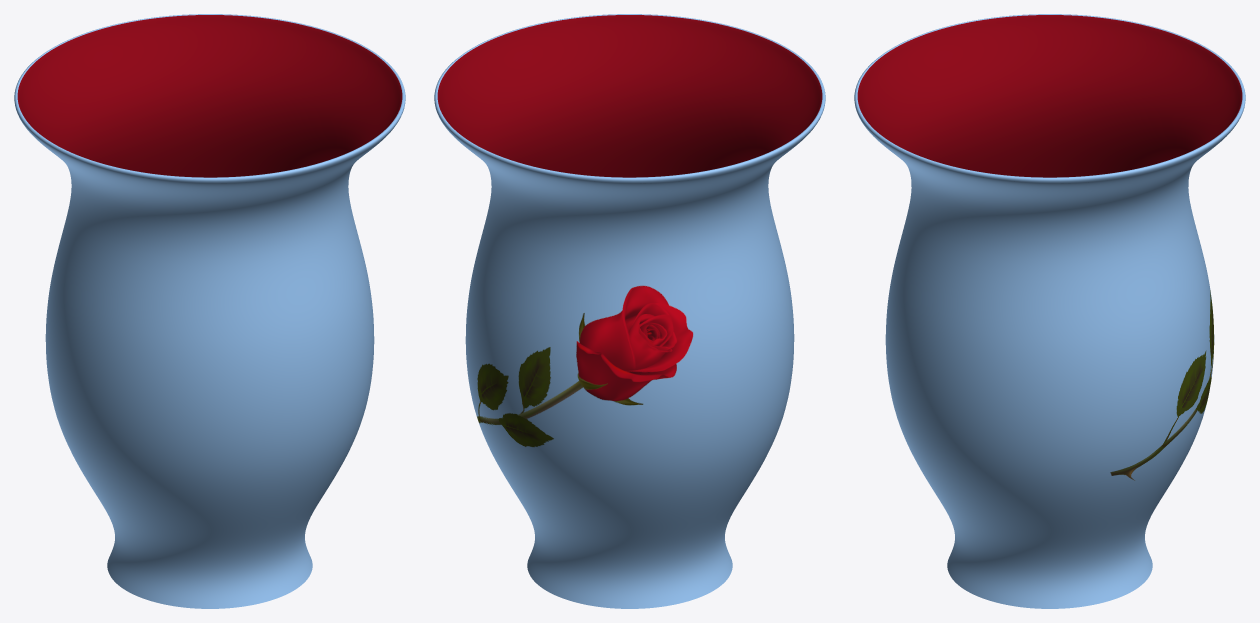
The model's file is obj_vase_d4be9b.glb.
3 renders of one model, left to right at view 1: azimuth 30°, elevation 25°; view 2: azimuth 150°, elevation 25°; view 3: azimuth 270°, elevation 25°, orthographic.
Parts seen in each view (by area): view 1: obj_vase_d4be9b; view 2: obj_vase_d4be9b; view 3: obj_vase_d4be9b.
Boxes of the visible parts, x1,y1,x2,y2 form: obj_vase_d4be9b: (14,14,405,608); obj_vase_d4be9b: (434,14,825,608); obj_vase_d4be9b: (854,14,1245,608).
Size of the model in its own units: 0.2644 by 0.35 by 0.2644.
Materials: 1 (1 with a texture image).
